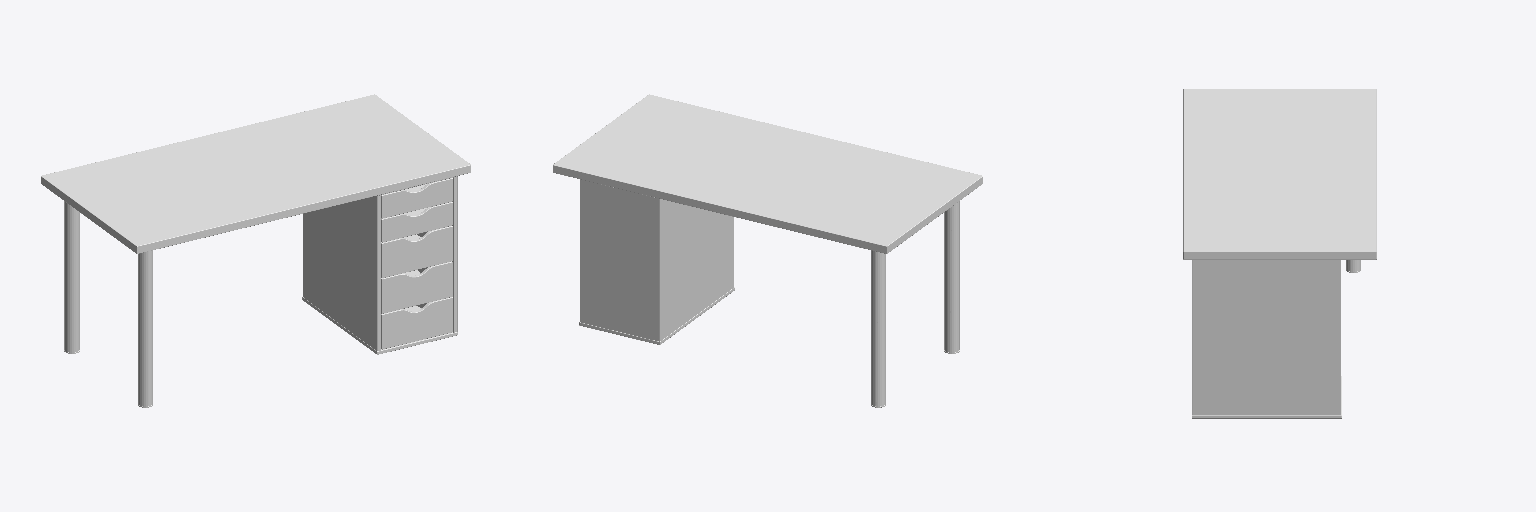
Rendered from alex.obj.
3 views of the same model, side by side, from view 1: azimuth 30°, elevation 25°; view 2: azimuth 150°, elevation 25°; view 3: azimuth 270°, elevation 25° (orthographic).
Visible parts, largest first — view 1: Material2.011_Material2.031; view 2: Material2.011_Material2.031; view 3: Material2.011_Material2.031.
Boxes of the visible parts, box(x1,y1,x2,y2) form: Material2.011_Material2.031: box(41, 94, 470, 407); Material2.011_Material2.031: box(553, 94, 982, 407); Material2.011_Material2.031: box(1183, 89, 1376, 418).
Size of the model in its own units: 5.55 by 2.72 by 2.78.